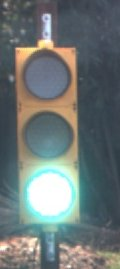Green: (5, 27, 92, 235)
